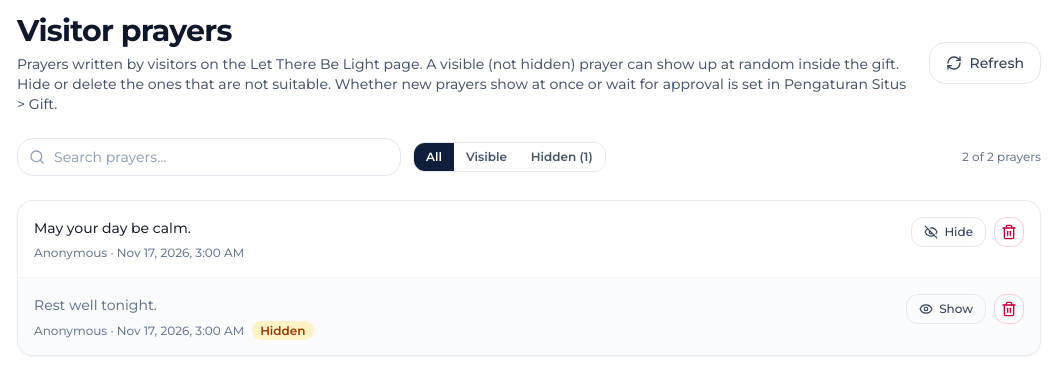
Test: PrayersCmsPage › searches the prayers, and shows them as anonymous
The image size is (1058, 373).
Check: the text "May your day be calm." is shown, box [34, 218, 191, 236]
Check: the text "Anonymous · Nov 17, 2026, 3:00 AM" is shown, box [34, 245, 244, 260]
Type "calm" into the search field at {"x": 209, "y": 156}, box [17, 138, 401, 176]
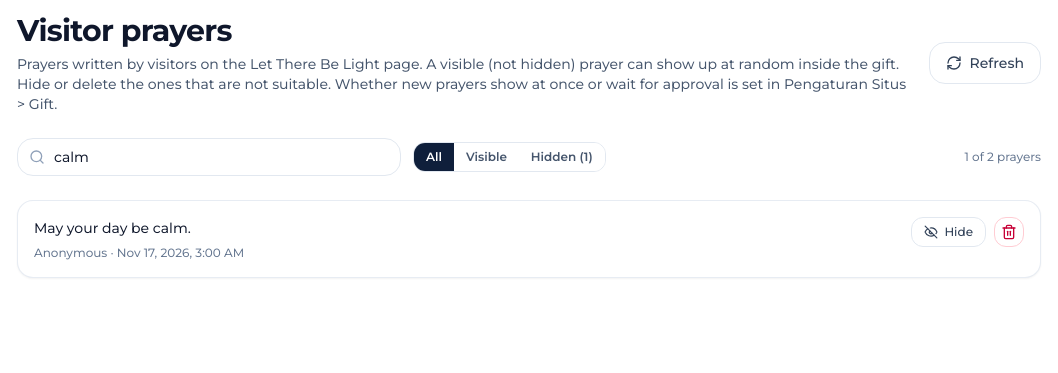
Check: the text "May your day be calm." is shown, box [34, 218, 191, 236]
Check: the text "Rest well tonight." is gone
